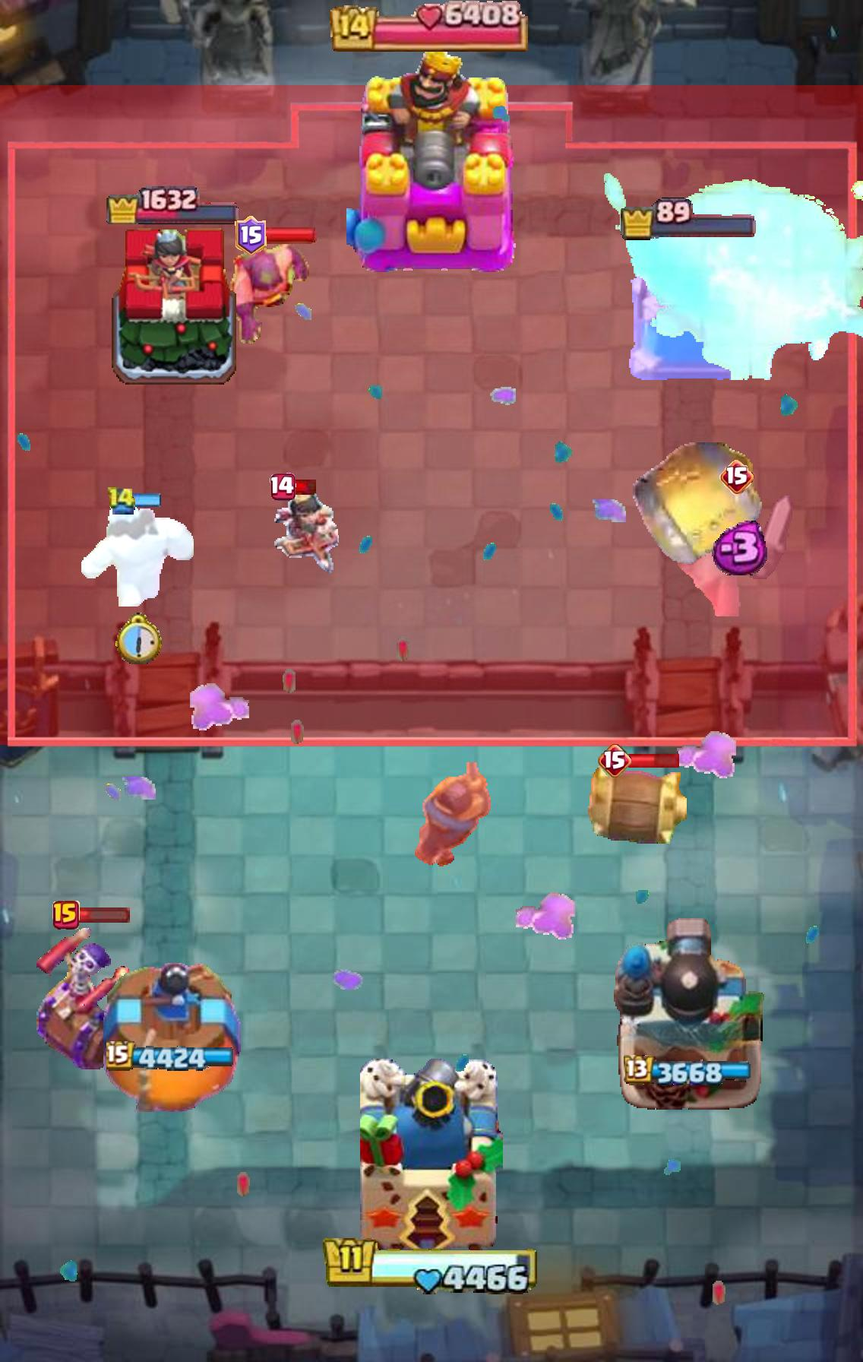elixir: (704, 521, 770, 575)
ice-golem: (81, 500, 194, 607)
